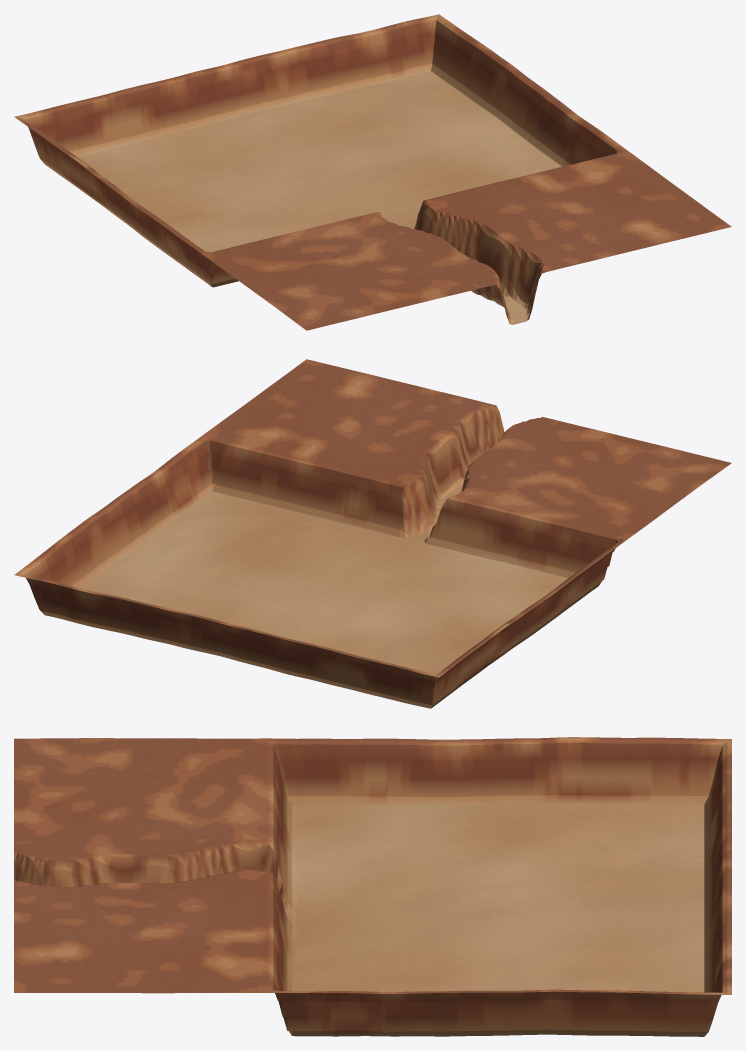
File: terrain.glb
3 views of the same model, one above another, from view 1: azimuth 30°, elevation 25°; view 2: azimuth 150°, elevation 25°; view 3: azimuth 270°, elevation 25° (orthographic). The views are drawn at different scales.
Parts seen in each view (by area): view 1: Terrain; view 2: Terrain; view 3: Terrain.
Boxes of the visible parts, left/top/right/bottom form: Terrain: left=14, top=14, right=731, bottom=330; Terrain: left=14, top=359, right=731, bottom=708; Terrain: left=14, top=737, right=731, bottom=1036.
Size of the model in its own units: 260 by 27.69 by 310.
